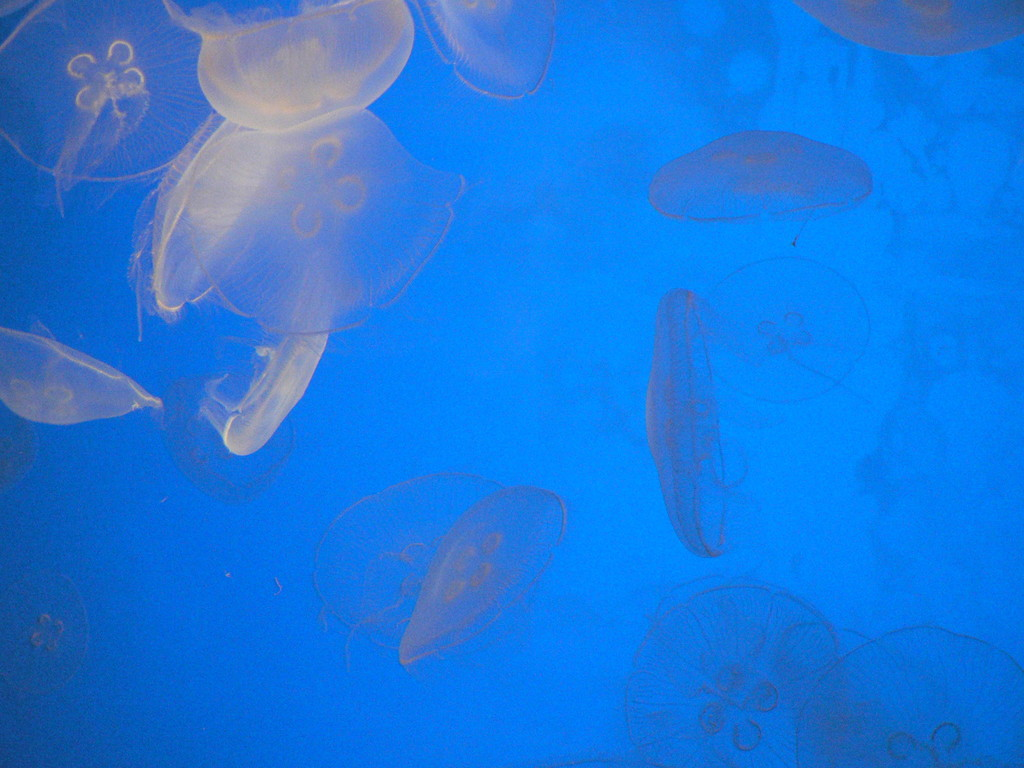Jellyfish: (0, 0, 564, 503), (309, 471, 544, 661), (624, 586, 840, 767), (792, 622, 1023, 767), (397, 485, 569, 669), (702, 256, 905, 411), (641, 288, 753, 558), (645, 124, 873, 243), (0, 558, 90, 694)
